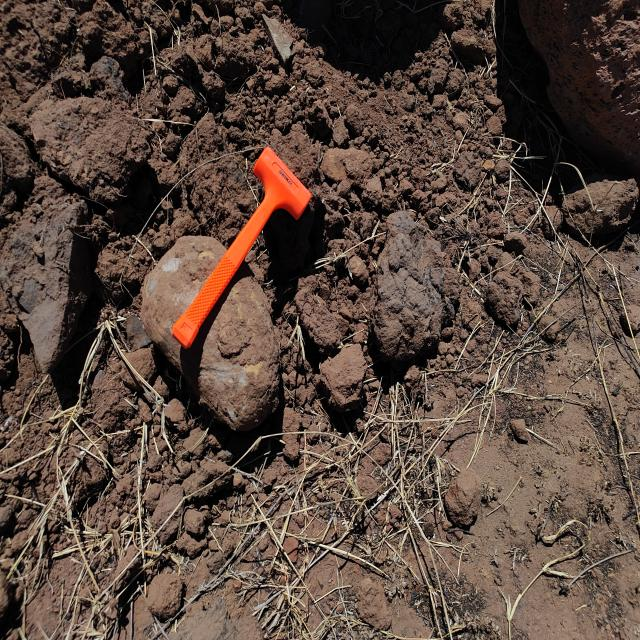Orange_hammer: (170, 144, 312, 350)
